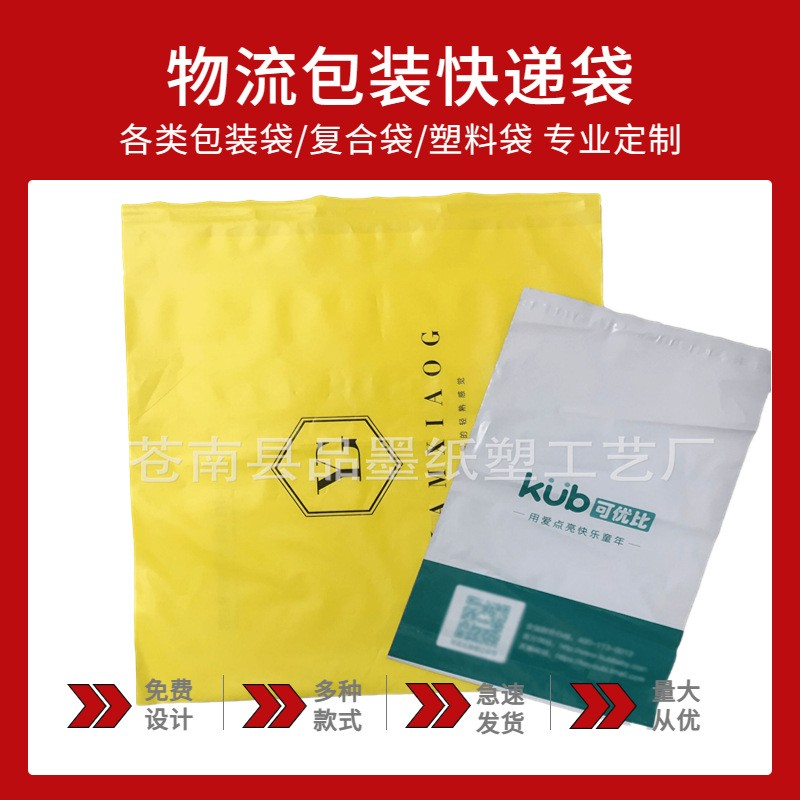塑料袋: (122, 194, 602, 708), (368, 268, 781, 800)
